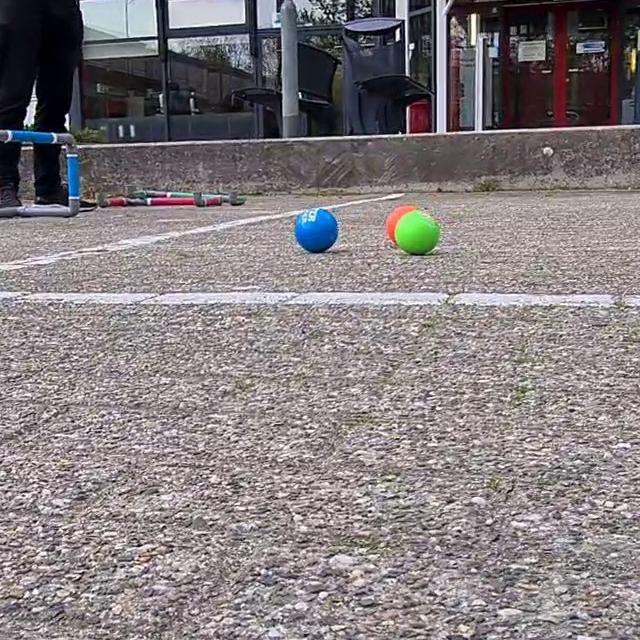ball: (389, 209, 444, 258), (292, 204, 341, 253)
